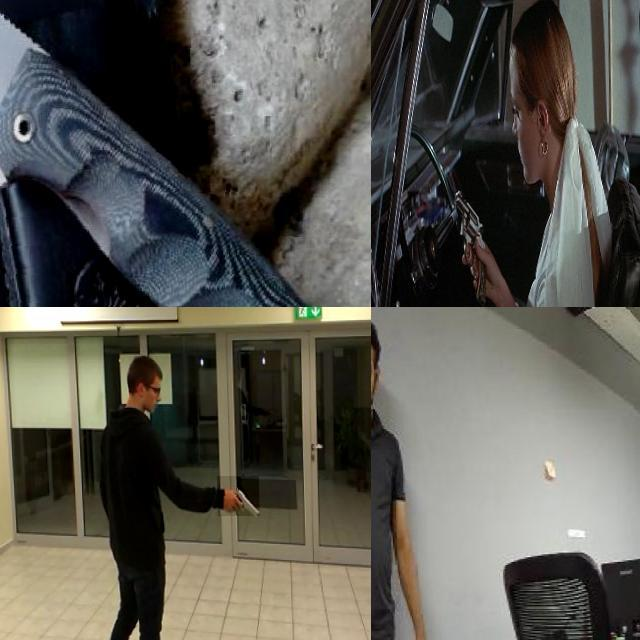-: (0, 0, 371, 307)
gun-knife-thesis - v11 Yolov5 augmented: (446, 185, 483, 307), (215, 476, 258, 516), (525, 0, 540, 14)
